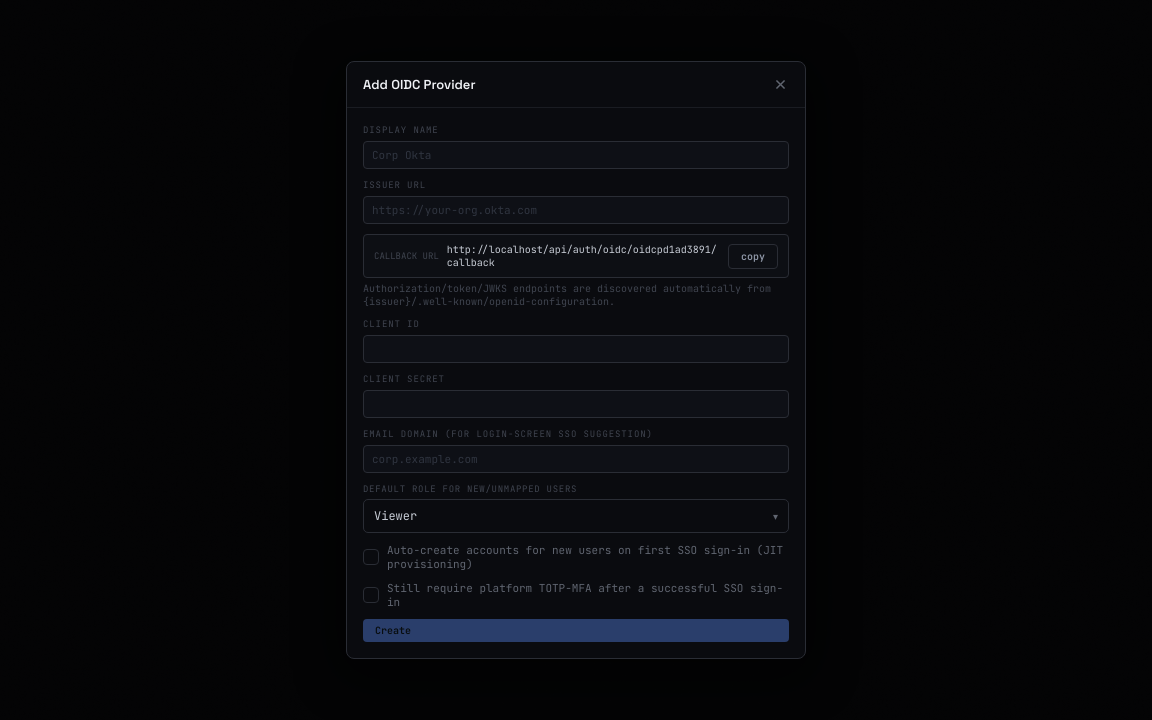
Test: SSO create modals — success state › org modal shows the redirect URI after create (hooks stay stable)
The image size is (1152, 720).
In the field with placeholder "Corp Okta": (576, 155) x1=363 y1=141 x2=789 y2=169, type "GitLab"
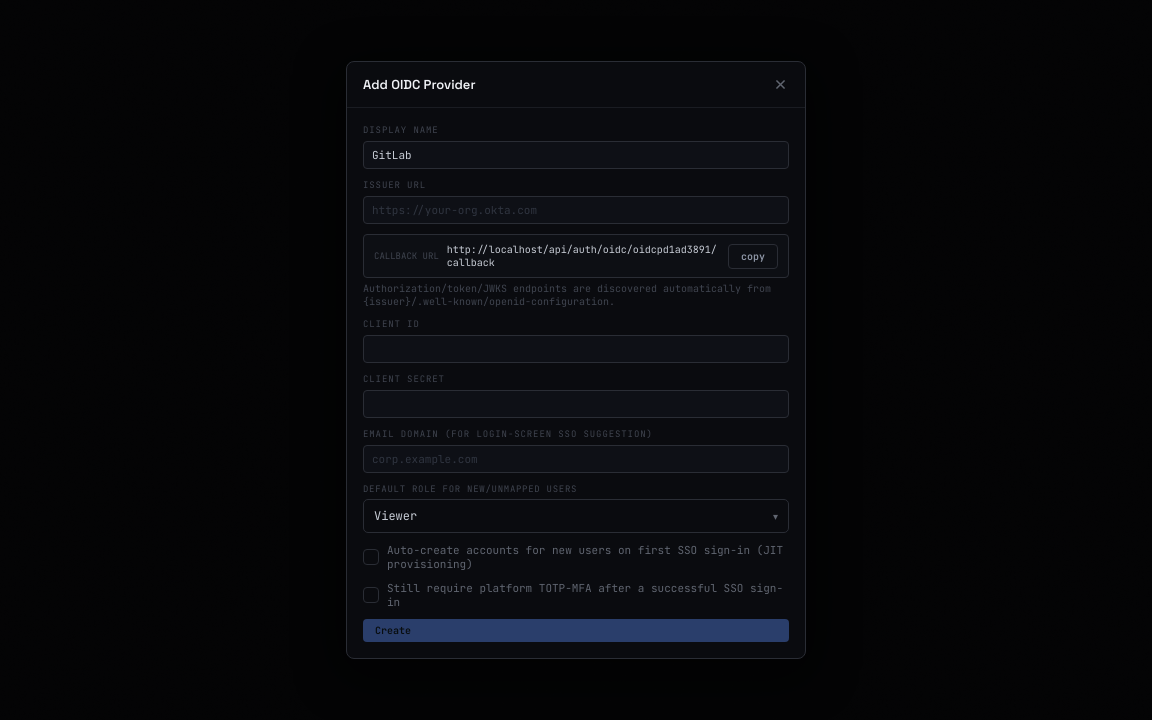
In the field with placeholder "https://your-org.okta.com": (576, 210) x1=363 y1=196 x2=789 y2=224, type "https://gitlab.example.com"
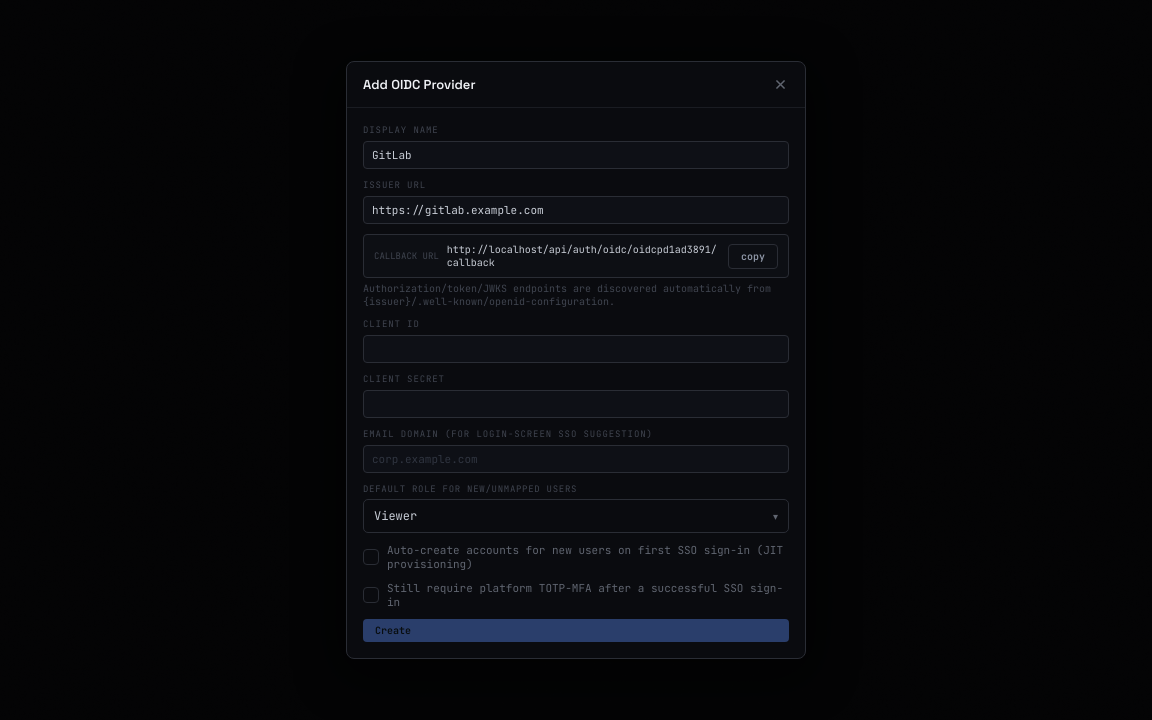
In the field below "Client ID": (576, 349) x1=363 y1=335 x2=789 y2=363, type "cid"
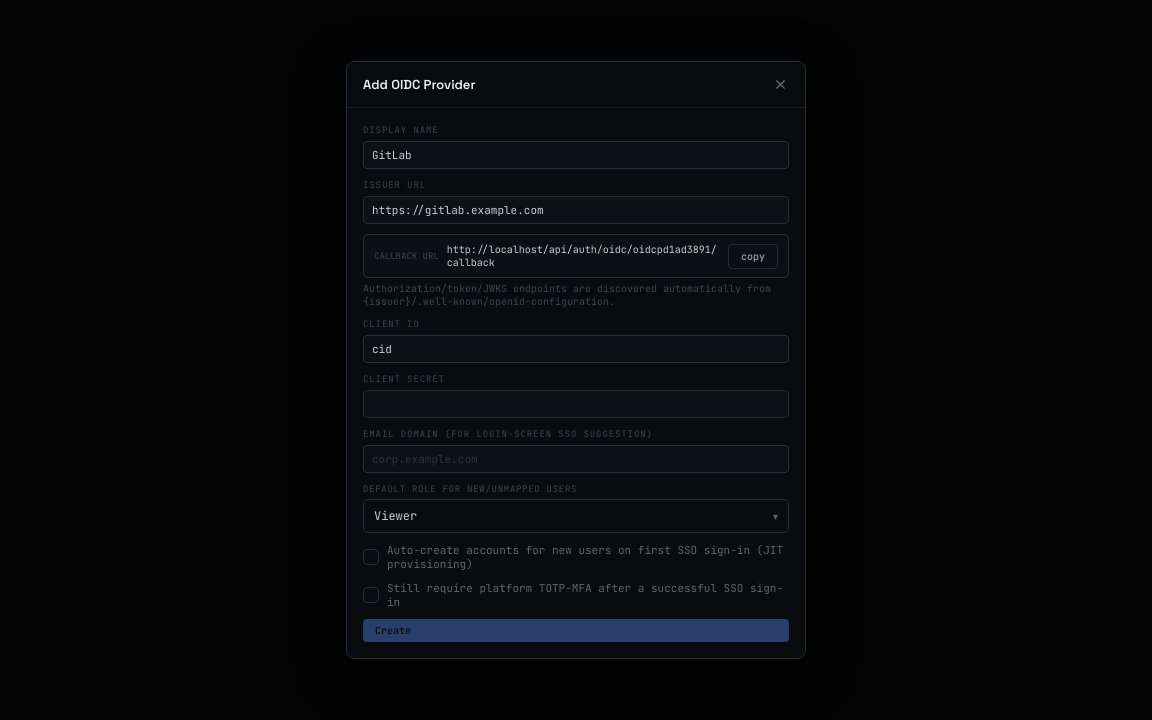
In the password field: (576, 404) x1=363 y1=390 x2=789 y2=418, type "secret"
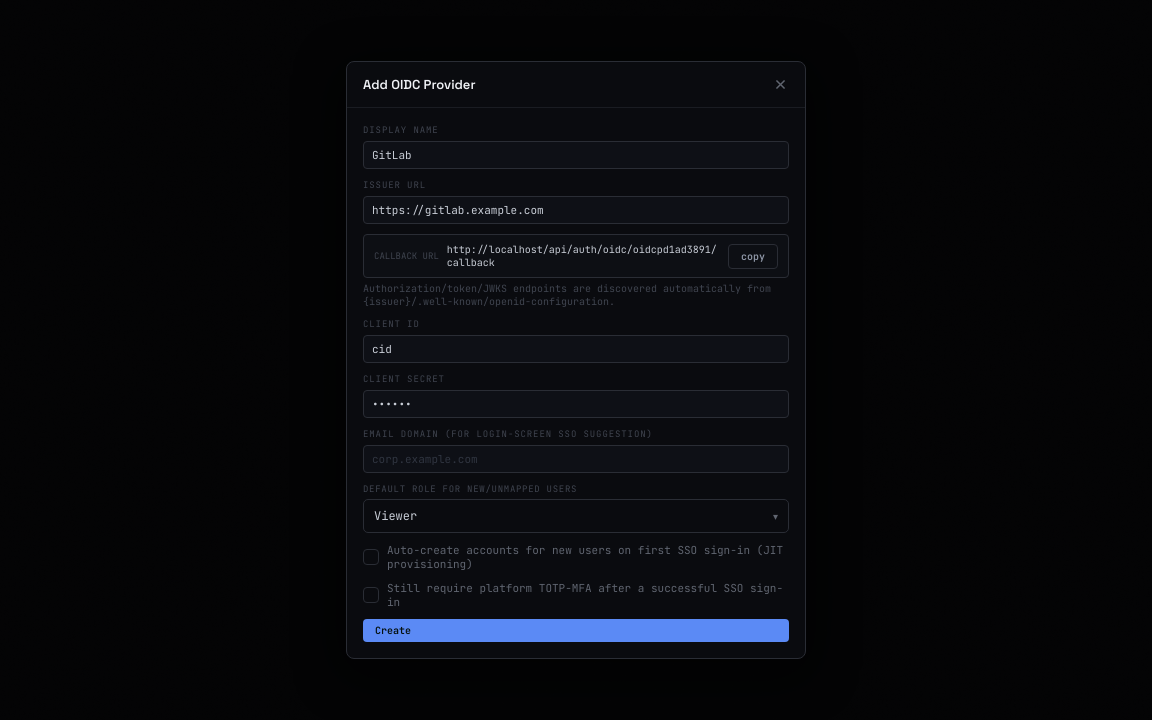
Click the button "Create": (393, 630) x1=363 y1=619 x2=789 y2=642
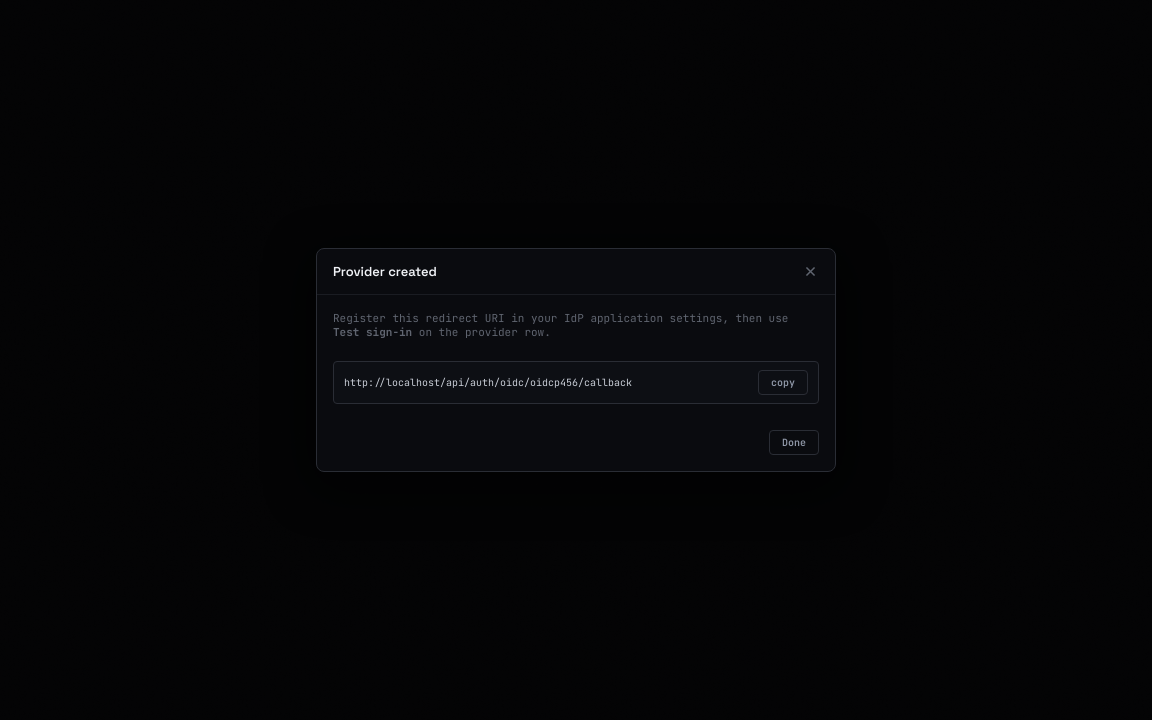
Expected: the text "Register this redirect URI" is shown, x1=333 y1=311 x2=788 y2=325
Expected: the text "http://localhost/api/auth/oidc/oidcp456/callback" is shown, x1=344 y1=376 x2=632 y2=389
